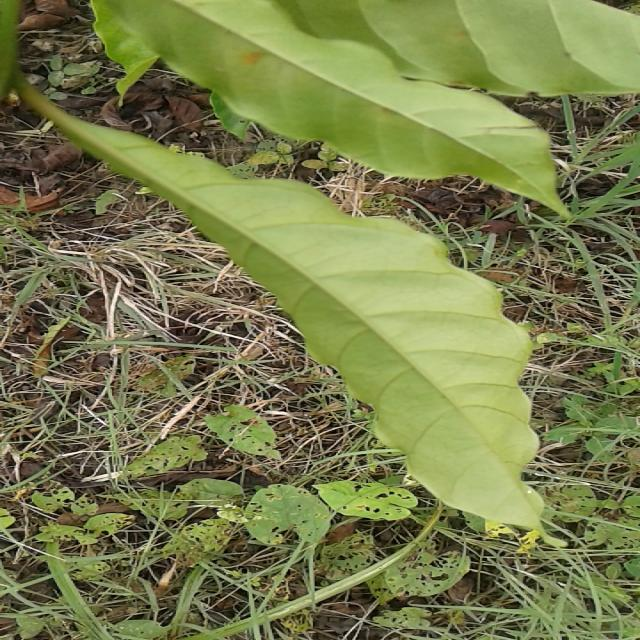Sanas: (40, 102, 547, 536)
